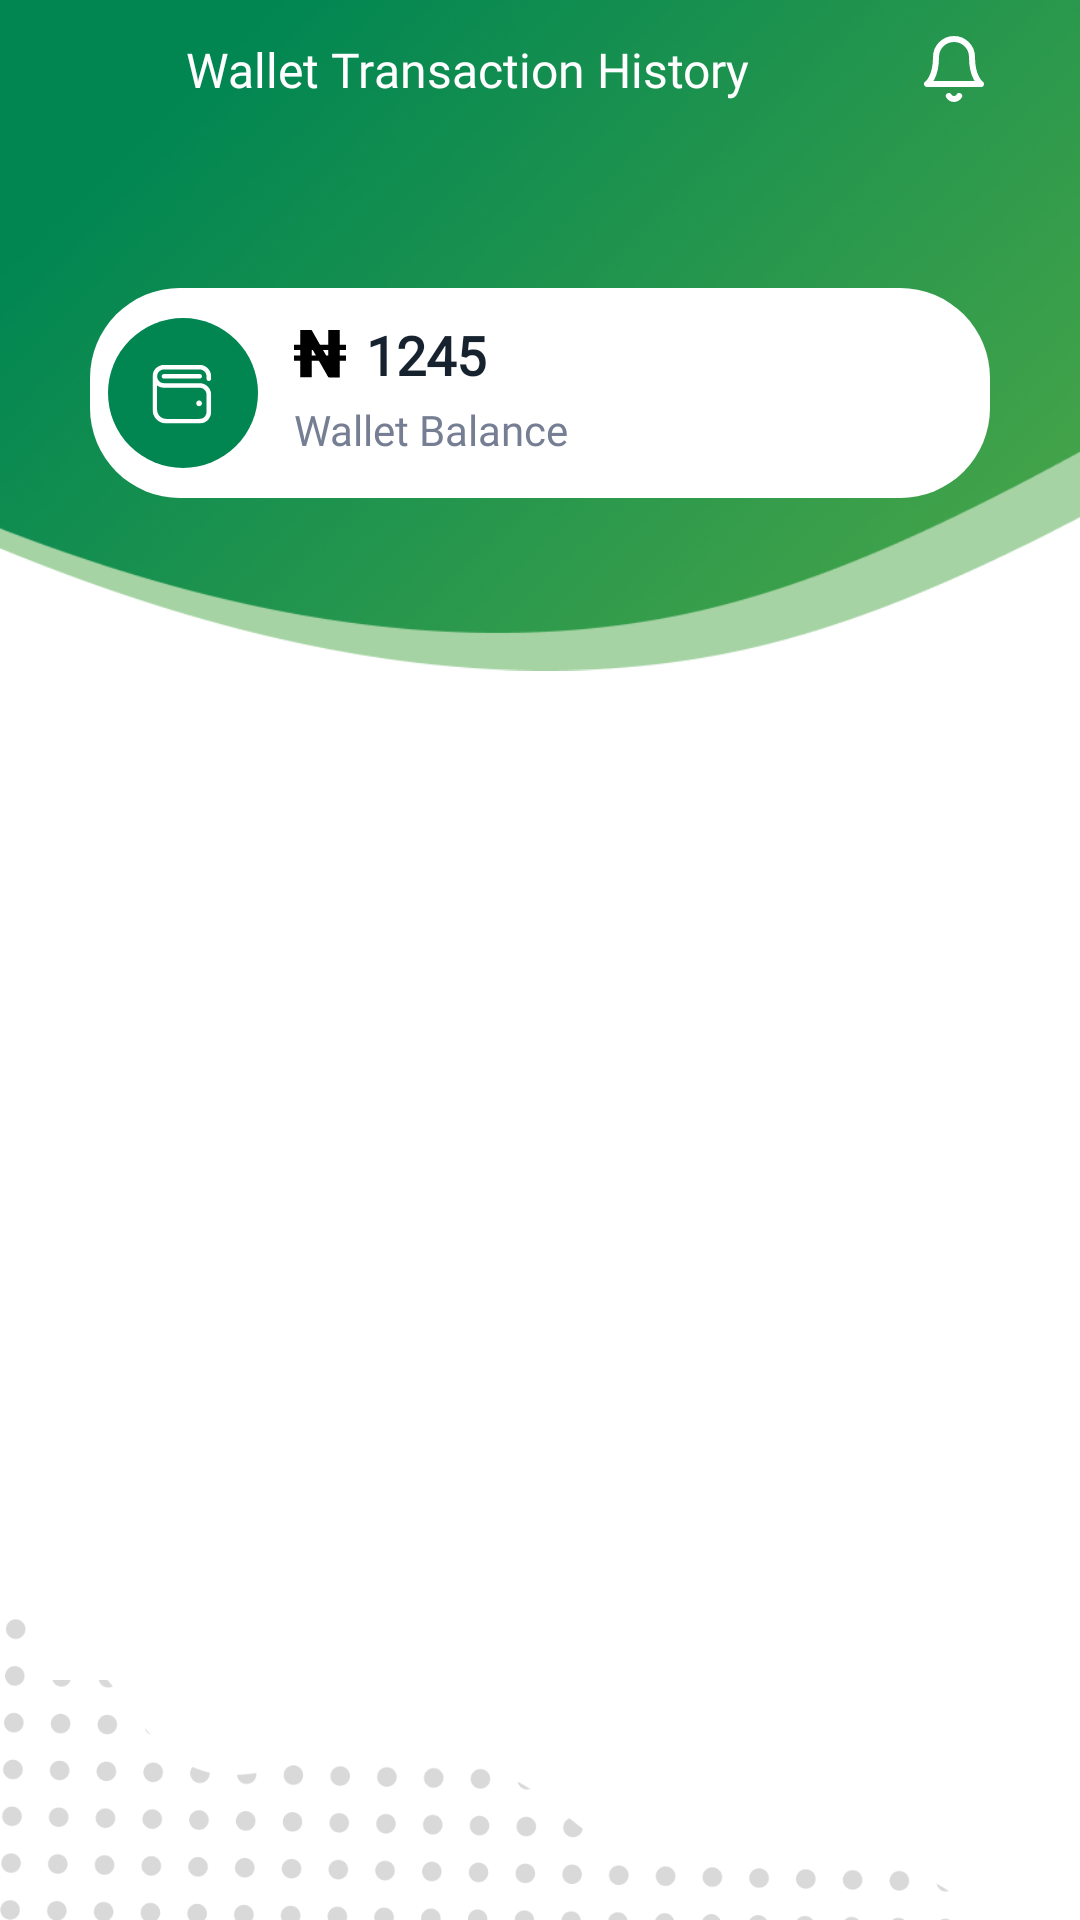

Icons on this 1080w x 1920h Android screen, each with its box as [x1=x1, y1=y1, x2=x2, y2=y2]:
bell: [x1=924, y1=36, x2=984, y2=102]
wallet circle: [x1=108, y1=318, x2=258, y2=468]
